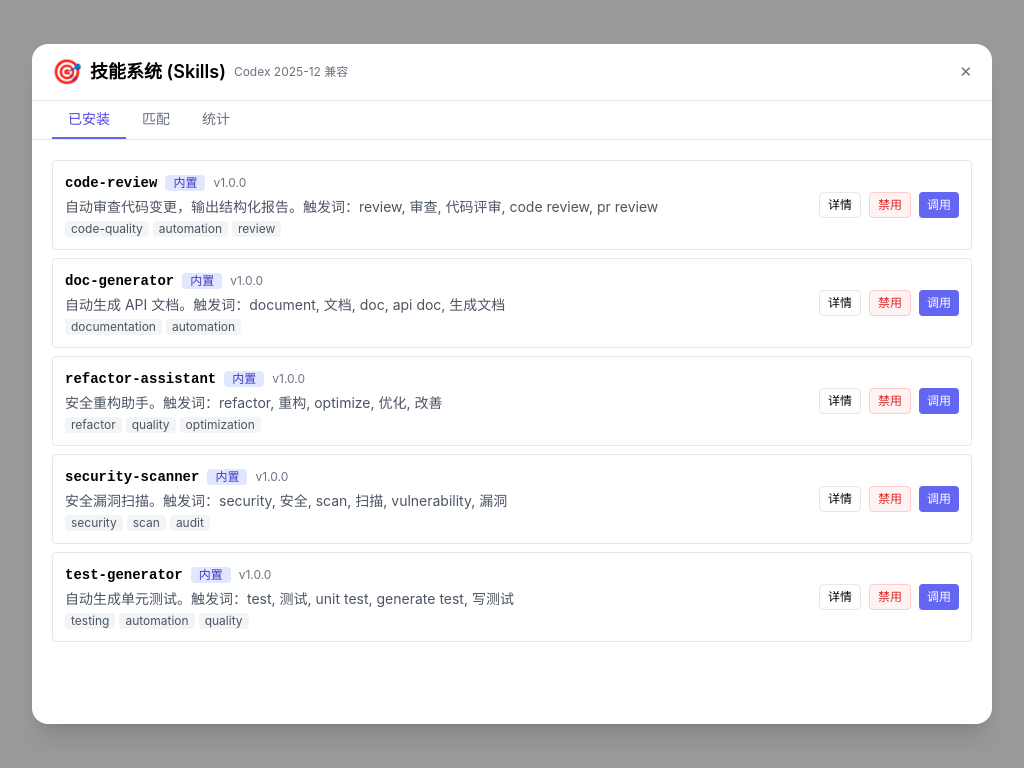
Test: SkillsPanel › 切换到匹配 Tab
What coordinates should you click on to do the following:
click the button with test id "skills-tab-match"
I would click on:
 (156, 120)
Its box is [126,101,186,139].
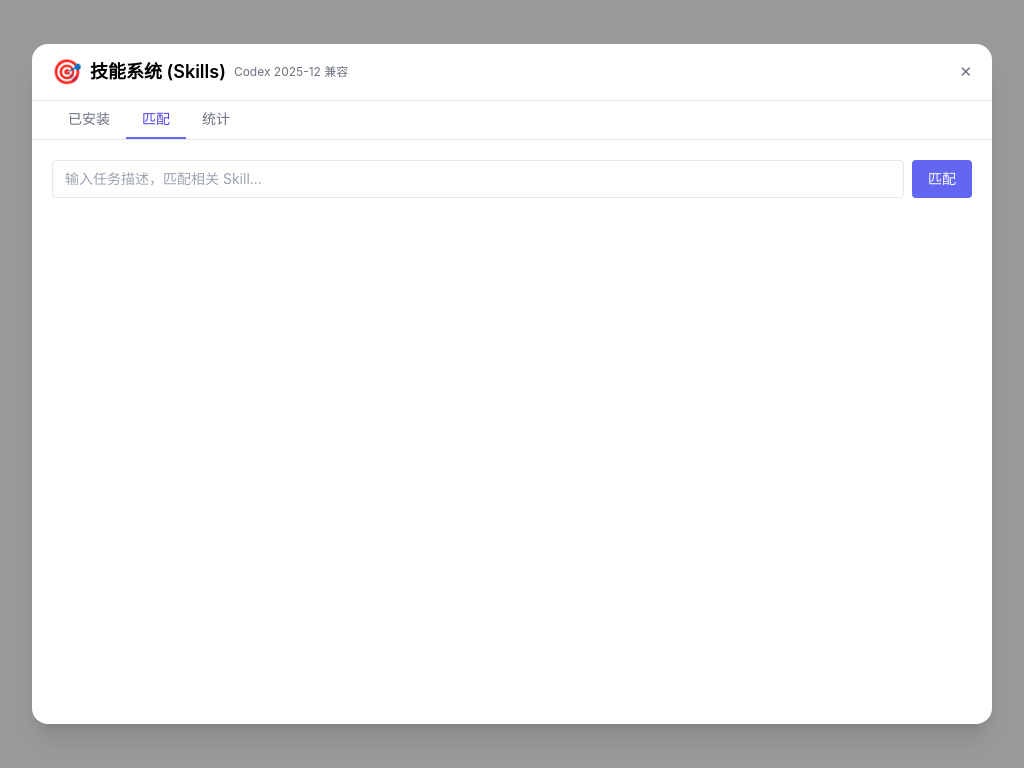
Result: the element with test id "skills-match-section" is shown at [52,160,972,198]
